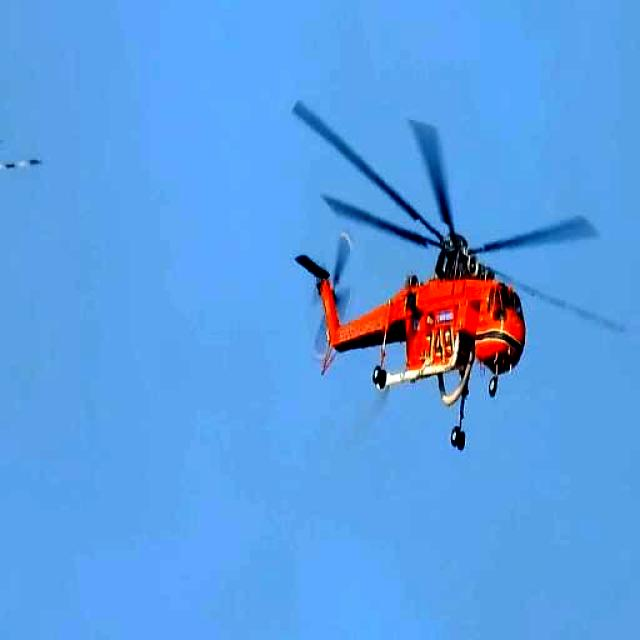drone: (288, 90, 629, 459)
